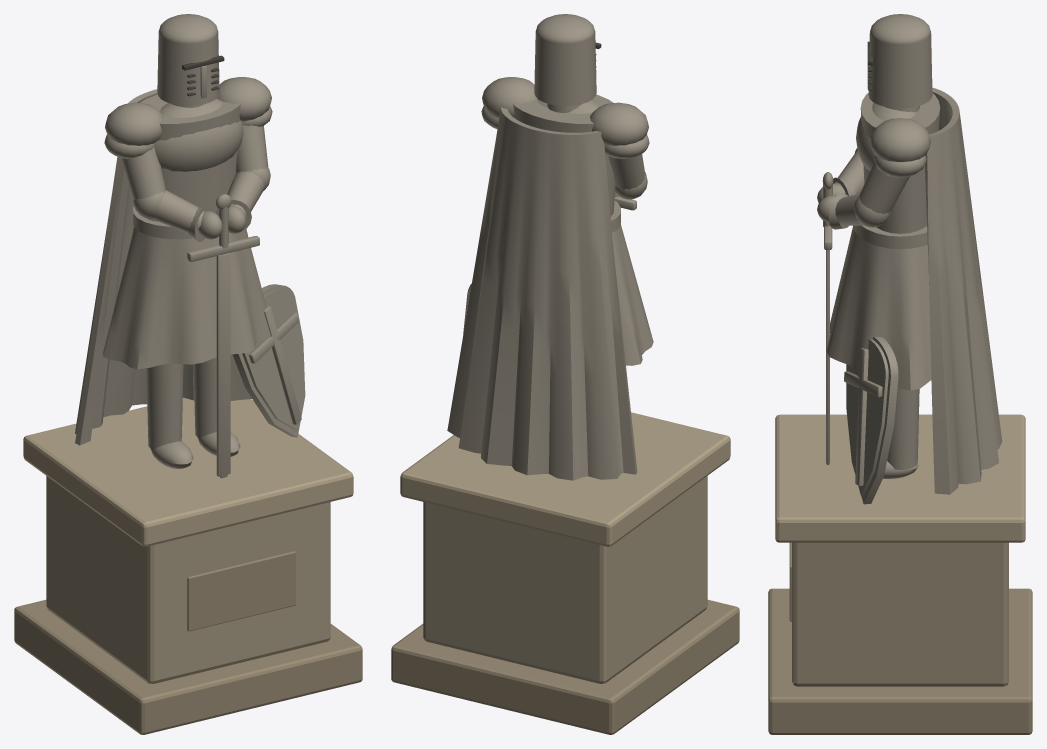
File: caballero.glb
3 views of the same model, side by side, from view 1: azimuth 30°, elevation 25°; view 2: azimuth 150°, elevation 25°; view 3: azimuth 270°, elevation 25° (orthographic). The views are drawn at different scales.
Parts seen in each view (by area): view 1: Caballero_pedestal, Caballero_figura; view 2: Caballero_pedestal, Caballero_figura; view 3: Caballero_pedestal, Caballero_figura.
Boxes of the visible parts, x1,y1,x2,y2 form: Caballero_pedestal: (14, 397, 362, 734); Caballero_figura: (75, 14, 305, 478); Caballero_pedestal: (391, 412, 739, 734); Caballero_figura: (447, 14, 653, 480); Caballero_pedestal: (768, 414, 1032, 734); Caballero_figura: (817, 14, 1002, 504).
Bounding box in the file's own units: 0.95 × 2.62 × 0.95.
